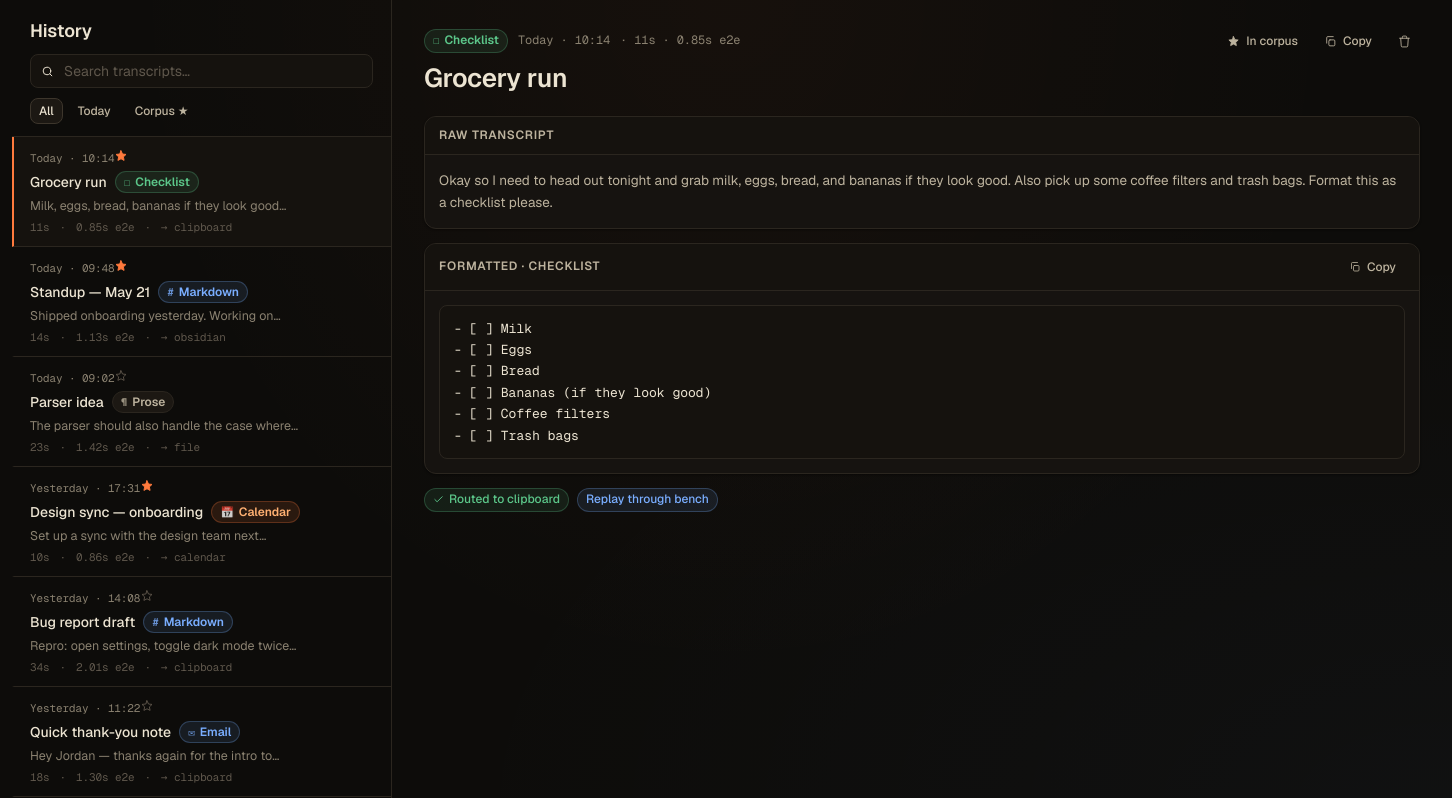
Test case: HistoryView — detail pane › shows the raw transcript from a matching demo sample
This screenshot has width=1452, height=798.
Step 1. Click the text "Design sync — onboarding" → (117, 512), box [30,503,203,521]
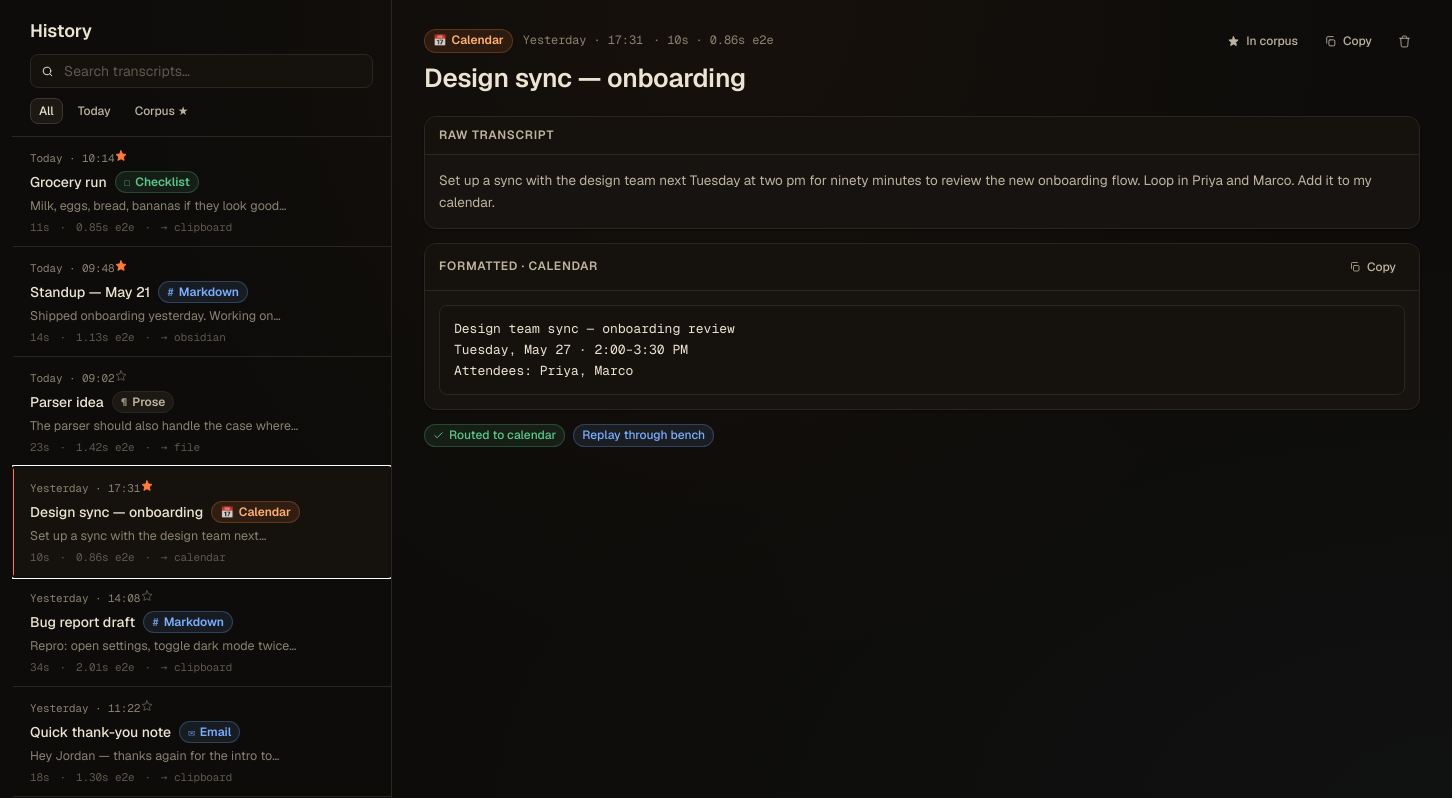
Check: the text "Set up a sync with the design team next Tuesday" is shown, box [439,171,1372,211]
